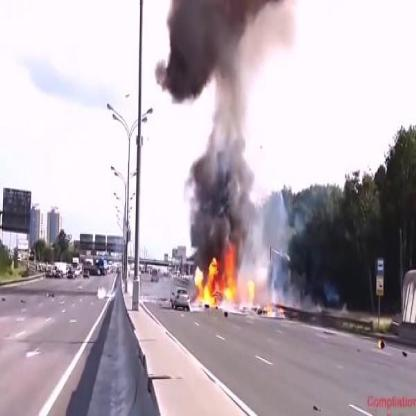fire: (190, 240, 284, 320), (377, 339, 382, 349)
